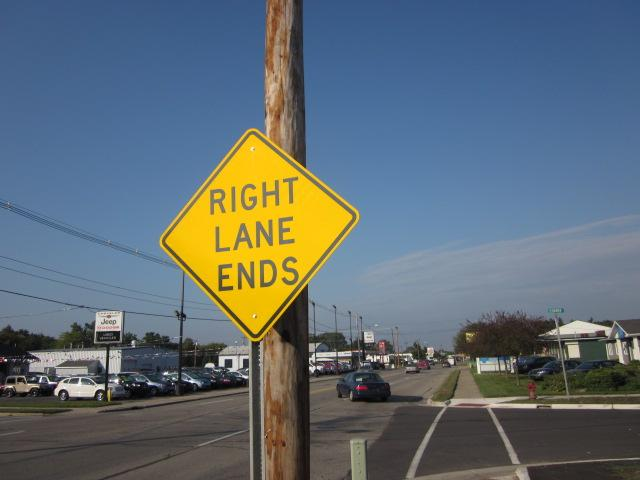warning: (155, 126, 360, 341)
